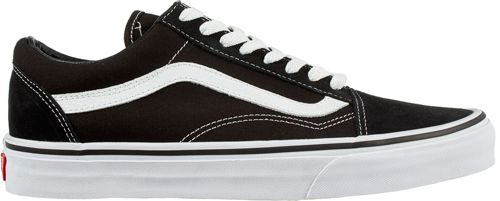Vans Old Skool Black: (1, 1, 496, 197)
